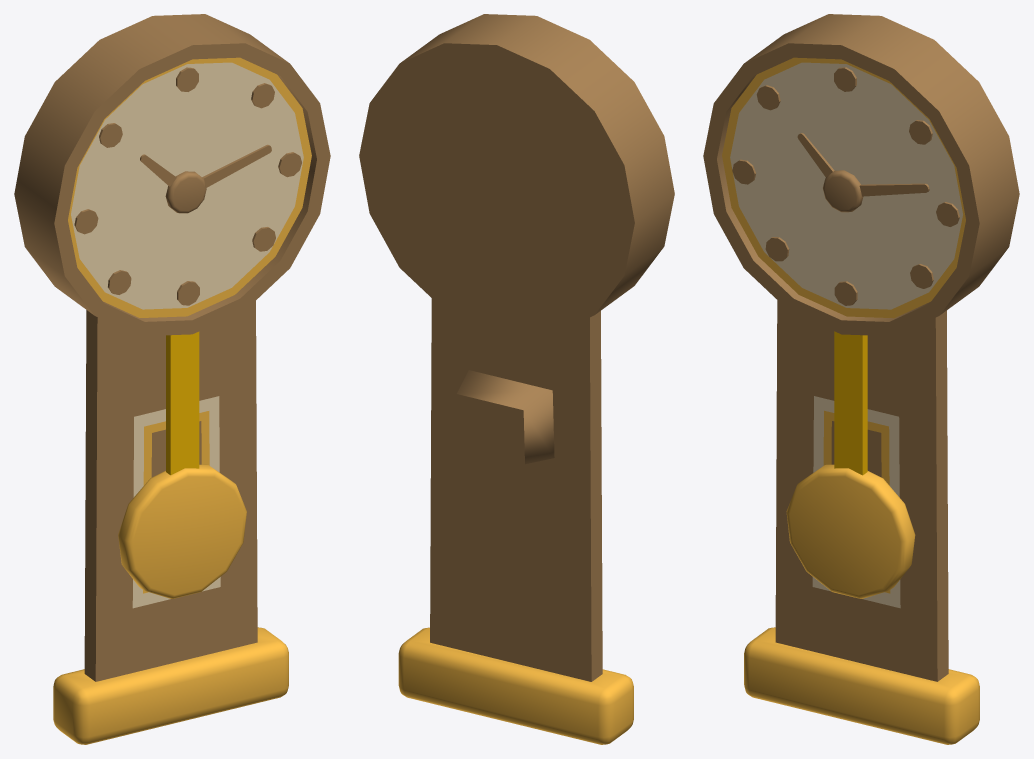
File: Clock_2C.fbx
3 renders of one model, left to right at view 1: azimuth 30°, elevation 25°; view 2: azimuth 150°, elevation 25°; view 3: azimuth 330°, elevation 25°, orthographic.
Visible parts, largest first — view 1: Clock_2C, Clock_2C Attachment_2; view 2: Clock_2C; view 3: Clock_2C, Clock_2C Attachment_2.
Part boxes in pixels (x1,y1,x2,y2): Clock_2C: (14, 14, 330, 744); Clock_2C Attachment_2: (202, 144, 271, 187); Clock_2C: (359, 14, 674, 744); Clock_2C: (703, 14, 1019, 744); Clock_2C Attachment_2: (859, 183, 929, 196).
Size of the model in its own units: 0.285 by 0.6742 by 0.0845.
